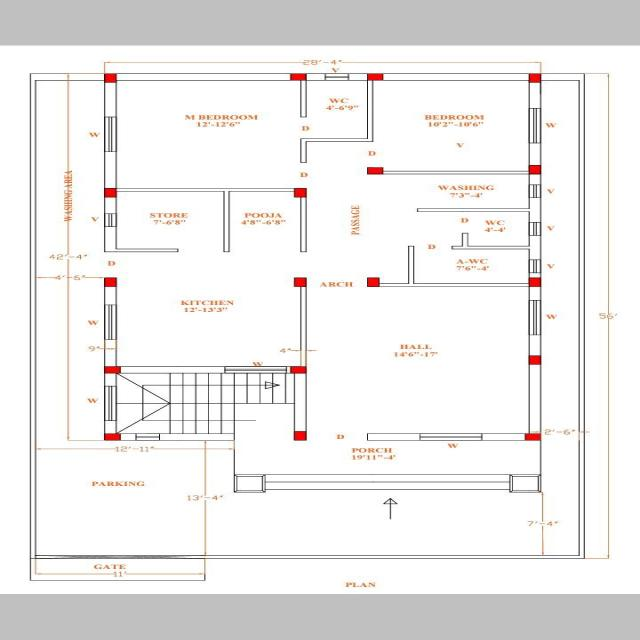Blueprint: (89, 64, 560, 447)
column: (100, 71, 121, 85), (524, 70, 545, 84), (523, 276, 545, 289), (290, 275, 310, 289), (99, 432, 126, 442), (291, 186, 310, 200), (525, 353, 544, 367), (365, 71, 387, 83), (100, 365, 124, 376), (289, 429, 309, 442), (100, 186, 120, 199), (521, 431, 544, 442), (100, 276, 120, 288), (364, 275, 382, 288), (285, 365, 310, 374), (364, 166, 386, 176), (287, 72, 308, 82), (526, 163, 543, 175)
wall: (114, 73, 294, 81), (382, 73, 531, 81), (527, 364, 542, 434), (378, 282, 532, 288), (114, 187, 296, 192), (120, 366, 228, 374), (293, 373, 307, 432), (382, 170, 530, 175), (299, 286, 308, 367), (222, 190, 232, 253), (158, 433, 236, 441), (102, 81, 119, 117), (416, 208, 532, 213), (298, 196, 308, 252), (365, 80, 374, 142), (103, 151, 117, 189), (101, 338, 118, 368), (526, 81, 542, 110), (366, 433, 421, 441), (527, 234, 543, 261), (102, 225, 118, 252), (451, 245, 532, 250), (527, 142, 543, 167), (527, 197, 542, 223), (406, 245, 416, 284), (298, 80, 308, 118), (480, 433, 527, 441), (527, 334, 543, 357), (114, 248, 180, 253), (299, 138, 374, 142), (103, 286, 118, 306), (102, 197, 118, 214), (527, 286, 543, 301), (103, 372, 118, 388), (299, 138, 308, 164), (346, 72, 369, 82), (102, 420, 118, 434), (527, 173, 543, 186), (305, 72, 327, 81), (120, 433, 138, 441), (461, 232, 469, 247), (528, 272, 542, 278)
